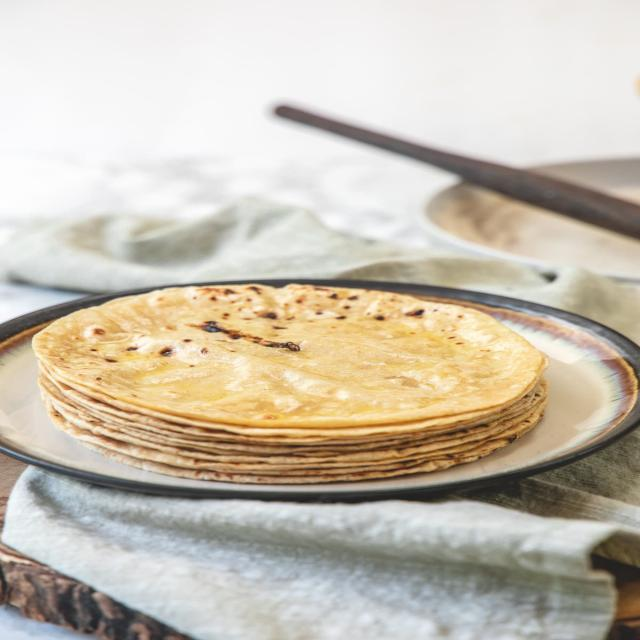ROTI: (52, 287, 562, 482)
